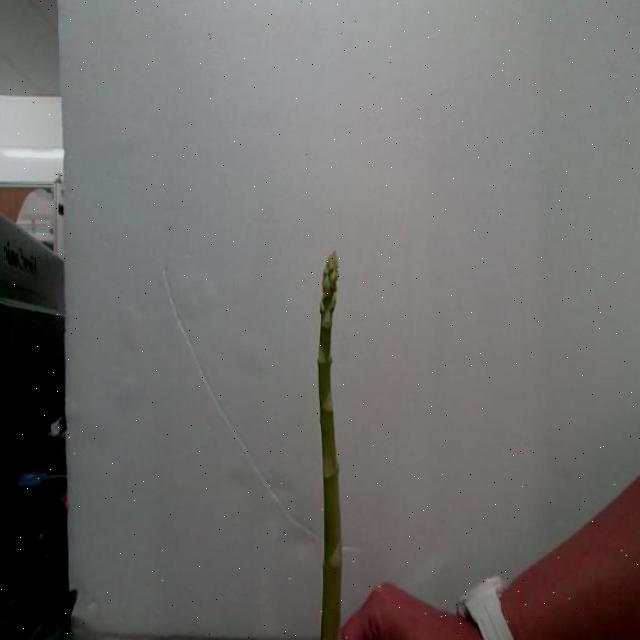aspargus: (316, 253, 343, 640)
